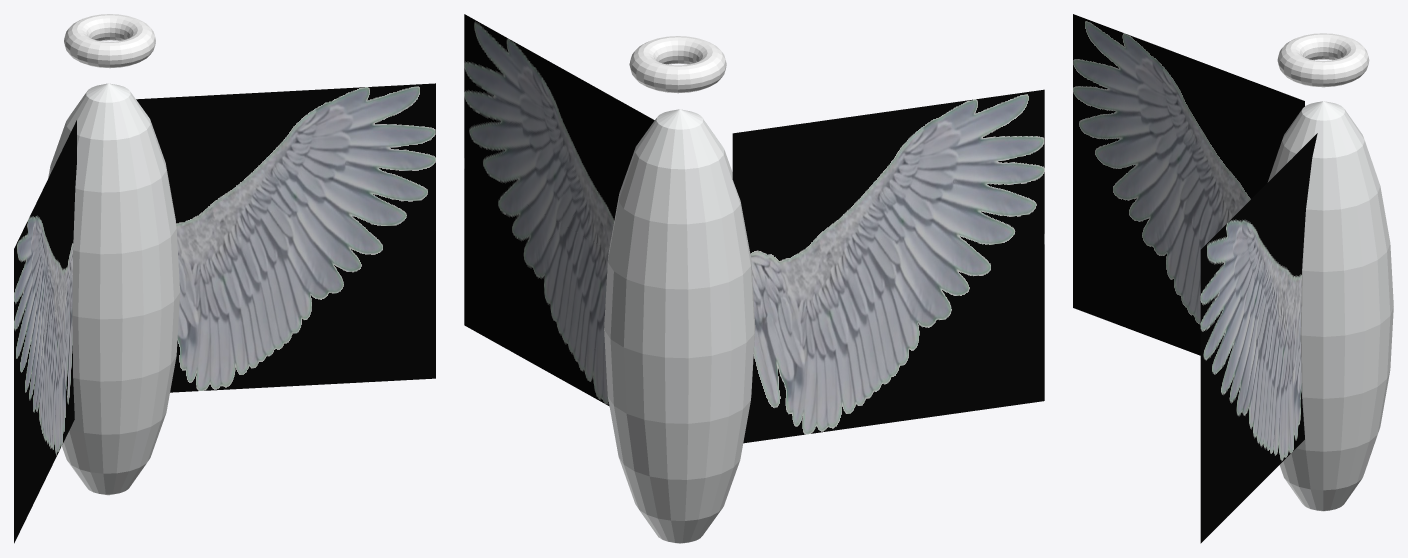
3 views of the same model, side by side, from view 1: azimuth 30°, elevation 25°; view 2: azimuth 150°, elevation 25°; view 3: azimuth 270°, elevation 25° (orthographic). The views are drawn at different scales.
Visible parts, largest first — view 1: 平面 (×2), 球体, 环面; view 2: 平面 (×2), 球体, 环面; view 3: 平面 (×2), 球体, 环面.
Boxes of the visible parts, box(x1,y1,x2,y2) form: 平面 (×2): box(14, 83, 435, 543); 球体: box(48, 83, 179, 495); 环面: box(64, 14, 155, 68); 平面 (×2): box(464, 14, 1044, 443); 球体: box(604, 109, 755, 543); 环面: box(629, 36, 726, 93); 平面 (×2): box(1073, 14, 1317, 543); 球体: box(1267, 101, 1393, 511); 环面: box(1277, 33, 1369, 87).
Size of the model in its own units: 1.23 by 1.13 by 0.7084.
4 materials, 2 textured.
